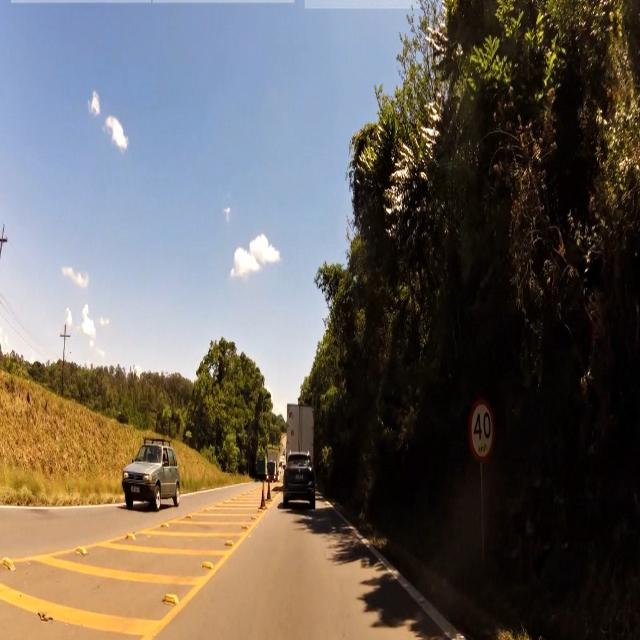R-19: (471, 403, 496, 461)
